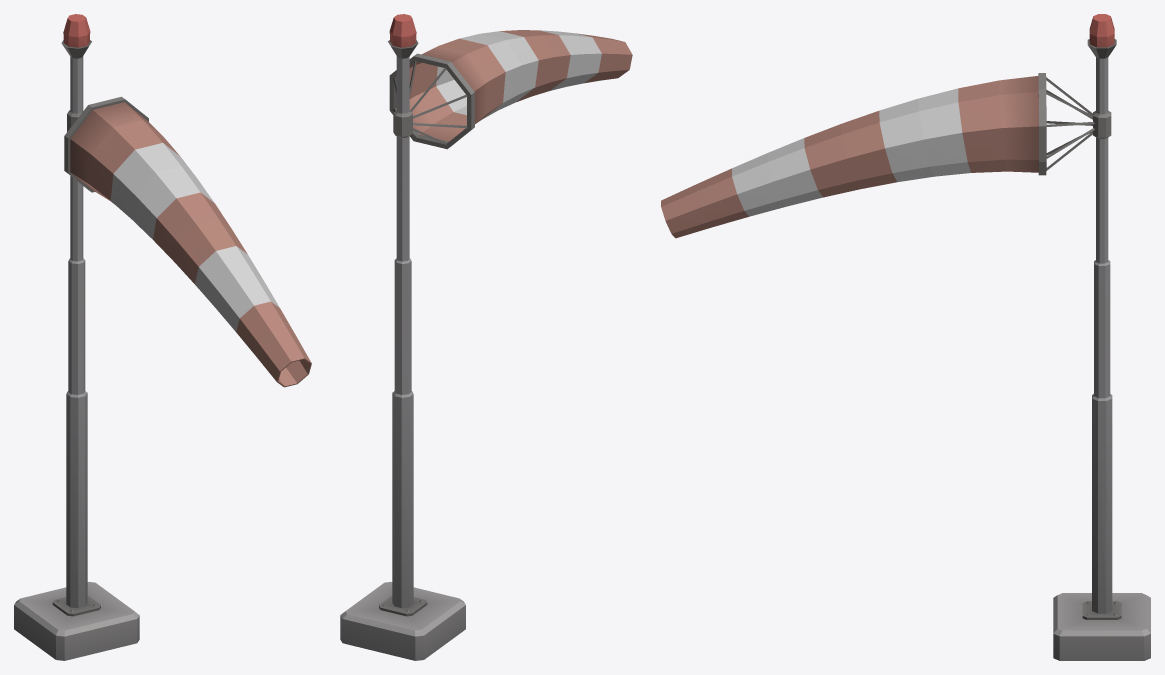
Rendered from windsock.glb.
The picture shows the model from 3 angles, left to right: view 1: azimuth 30°, elevation 25°; view 2: azimuth 150°, elevation 25°; view 3: azimuth 270°, elevation 25°; orthographic projection.
Visible parts, largest first — view 1: windsock.001; view 2: windsock.001; view 3: windsock.001.
Part boxes in pixels (x1,y1,x2,y2): windsock.001: (14,14,311,660); windsock.001: (340,14,632,660); windsock.001: (661,14,1150,660).
Size of the model in its own units: 0.9 by 6.33 by 4.51.
